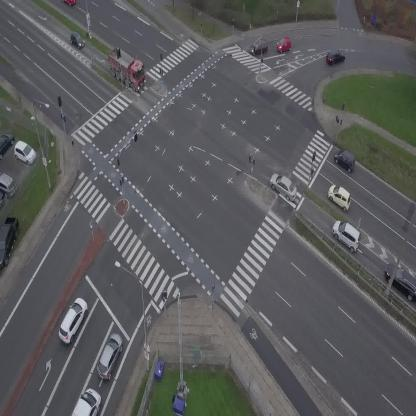car: (54, 295, 92, 346), (93, 331, 128, 381), (327, 216, 368, 254), (266, 170, 302, 203), (324, 181, 357, 212), (331, 146, 359, 173), (324, 47, 347, 66), (67, 30, 87, 51), (247, 38, 269, 56), (277, 37, 291, 52), (62, 0, 76, 6)
lorry: (99, 43, 154, 94), (72, 385, 105, 416)
